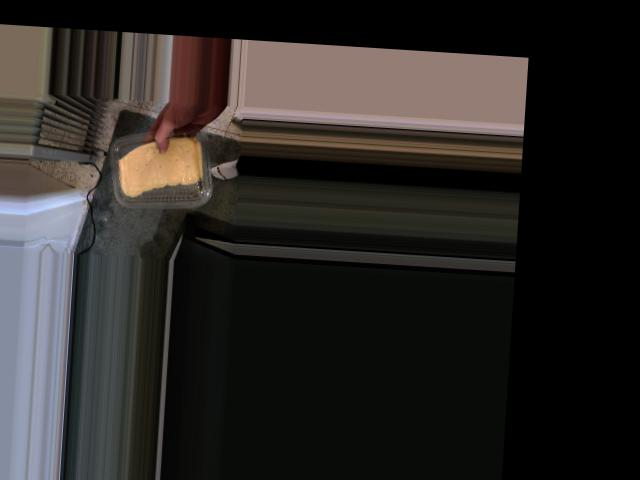cheese: (109, 126, 214, 205)
